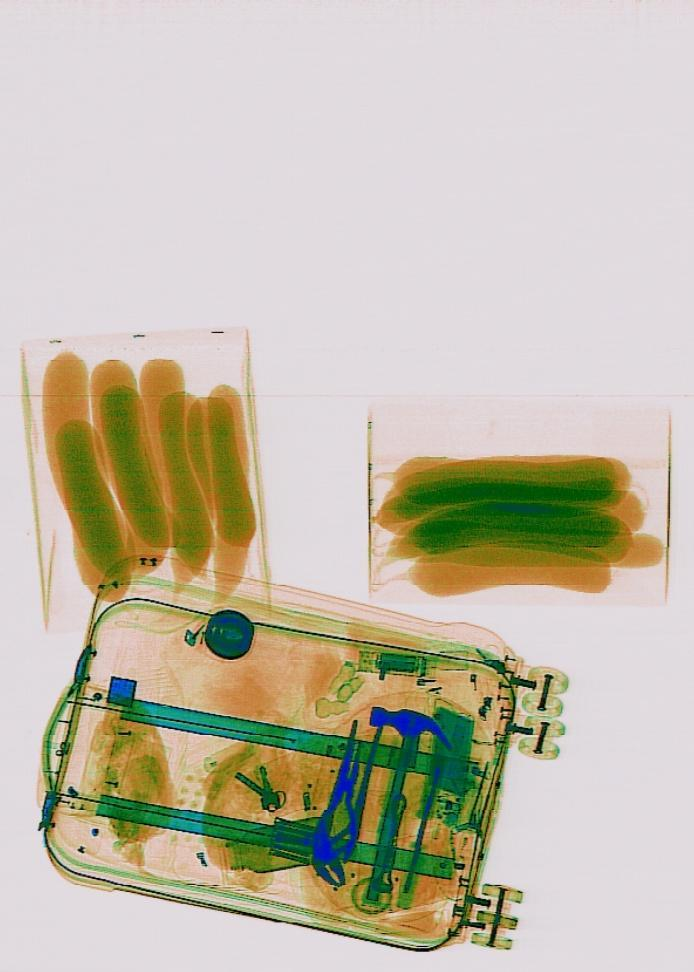plier: (310, 719, 384, 888), (311, 738, 362, 866)
